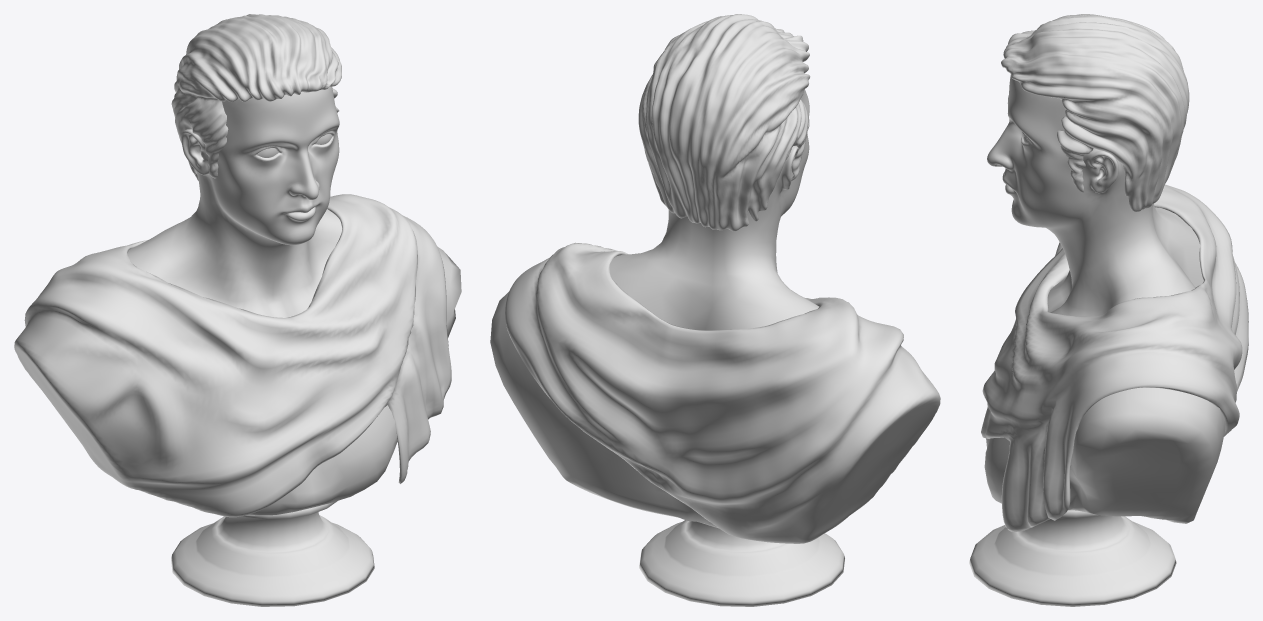
File: male-head-2-3d.glb
The picture shows the model from 3 angles, left to right: view 1: azimuth 30°, elevation 25°; view 2: azimuth 150°, elevation 25°; view 3: azimuth 270°, elevation 25°; orthographic projection.
Visible parts, largest first — view 1: node_id38; view 2: node_id38; view 3: node_id38.
Boxes of the visible parts, box(x1,y1,x2,y2) form: node_id38: box(14, 14, 461, 606); node_id38: box(490, 14, 940, 606); node_id38: box(969, 14, 1248, 606).
Size of the model in its own units: 0.319 by 0.39 by 0.1817.
Materials: 1 (1 with a texture image).
